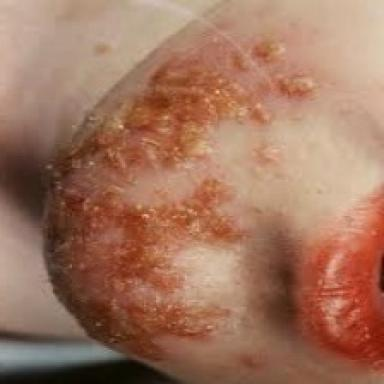Impetigo: (47, 31, 321, 363)
